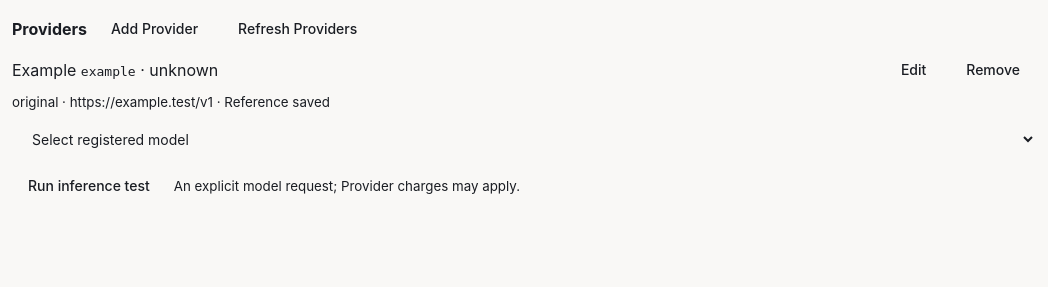
Test: Studio Provider configuration › runs only an explicit selected-model test and keeps missing usage/cost UNKNOWN
Check: the button with aria-label "Edit example" is shown, box [885,53,942,86]
Select "Original · example/original" in the dropdown named "Model to test" at x=524, y=140, box [12,118,1036,161]
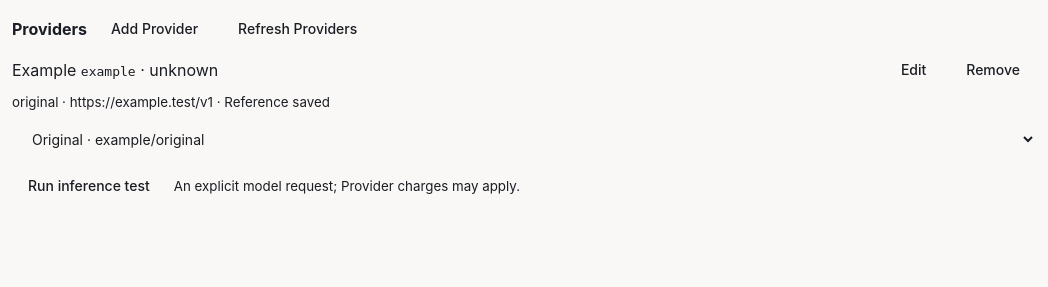
Click the button "Run inference test" at x=89, y=186, box [12,169,166,202]
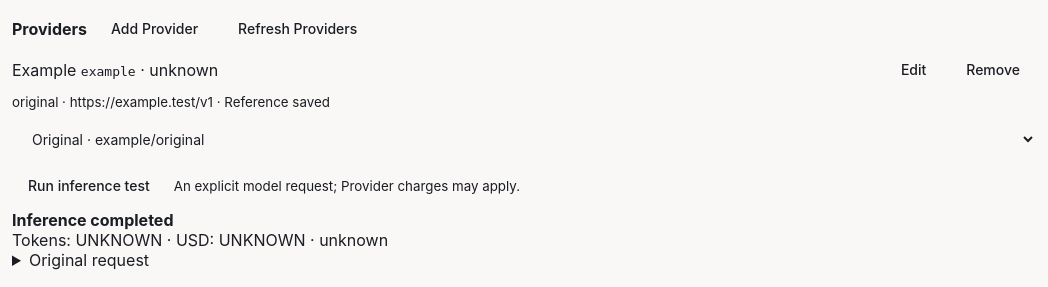
Check: the element named "Model test result" shows "Tokens: UNKNOWN · USD: UNKNOWN", box [12,210,388,270]
